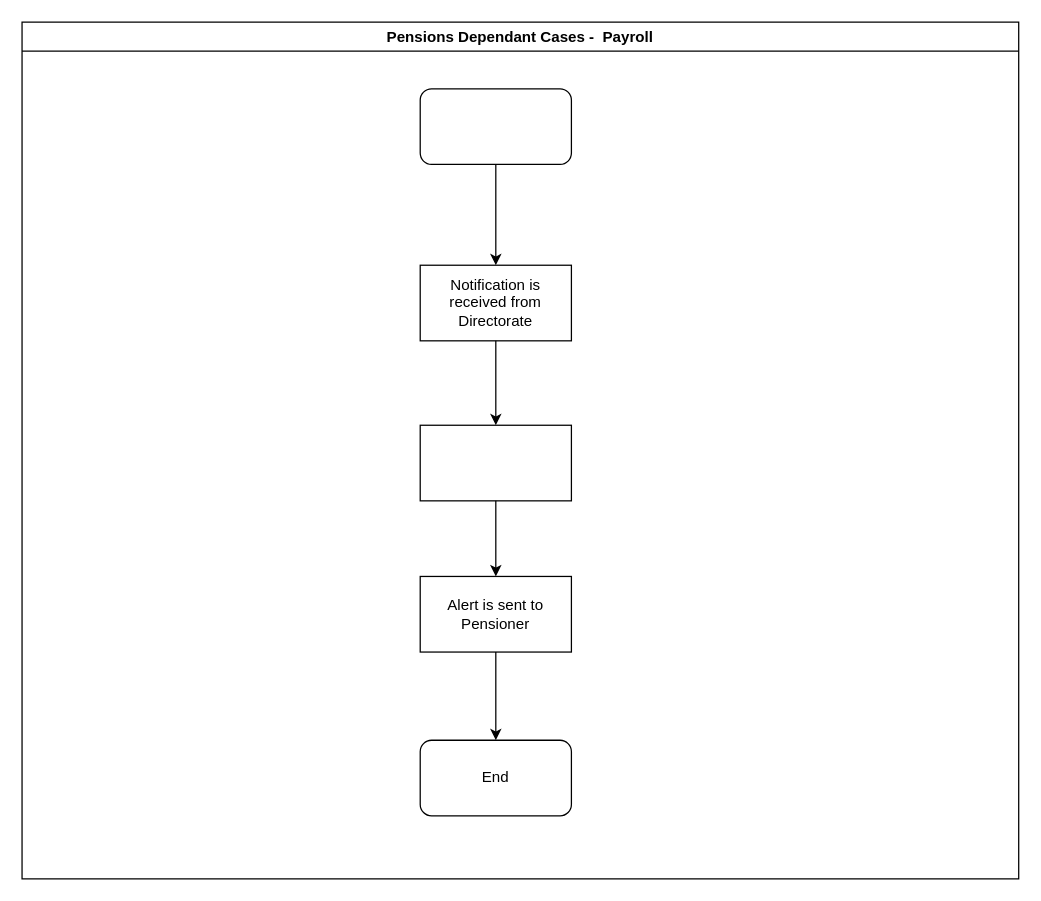
This 1041x901 diagram has some shape labels left out. Each missing label, with the centre of its shape:
"Payroll is processed" belongs at [495,462].
"Start" belongs at [495,126].
